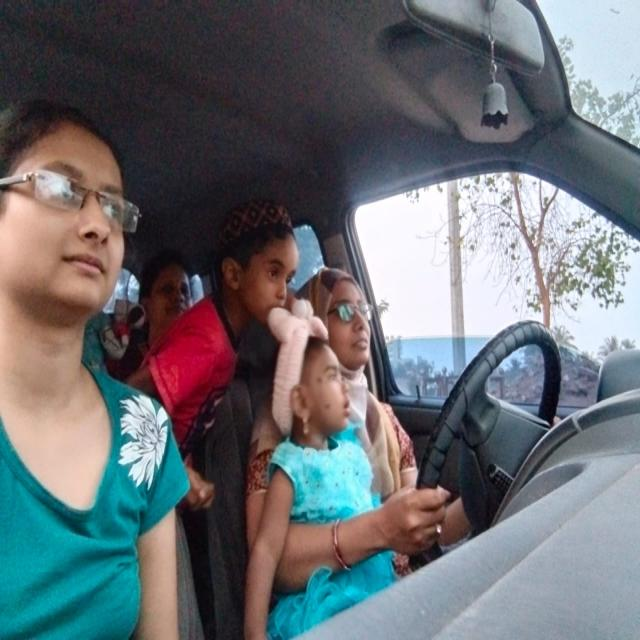child: (259, 304, 355, 445), (213, 197, 306, 338)
person: (0, 76, 153, 360), (322, 259, 393, 371), (133, 266, 217, 342)
